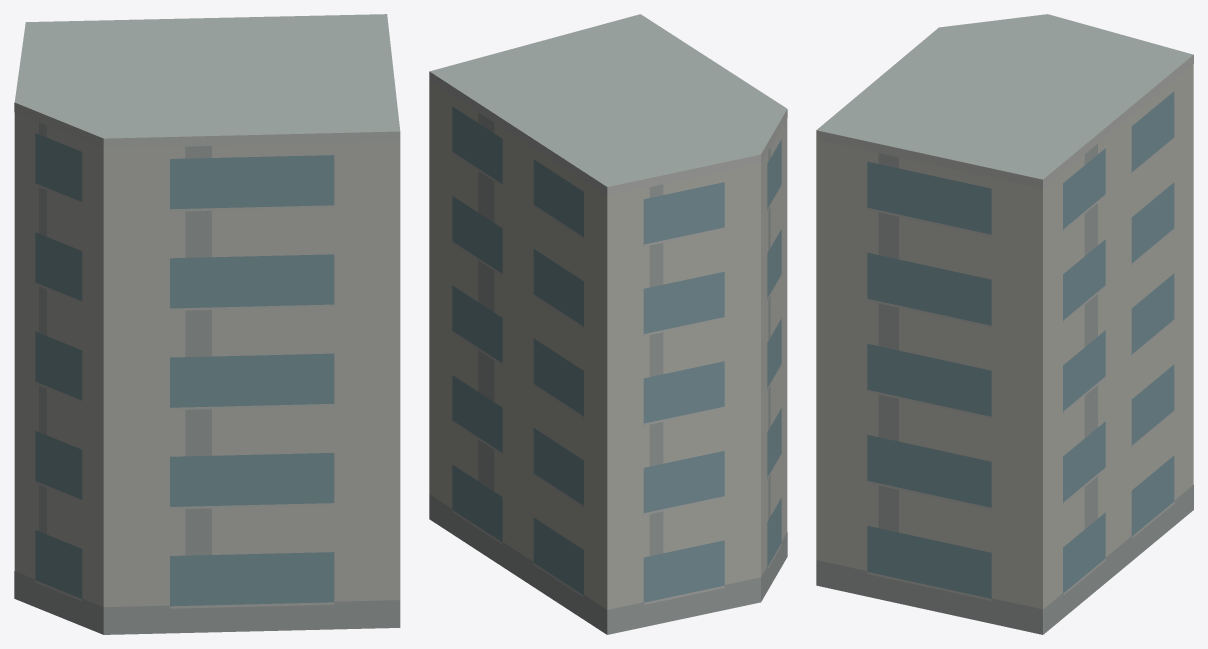
Rendered from survey-upis-32730424.glb.
3 views of the same model, side by side, from view 1: azimuth 30°, elevation 25°; view 2: azimuth 150°, elevation 25°; view 3: azimuth 270°, elevation 25° (orthographic). The views are drawn at different scales.
Visible parts, largest first — view 1: survey-upis-32730424.tmp; view 2: survey-upis-32730424.tmp; view 3: survey-upis-32730424.tmp.
Boxes of the visible parts, x1=… form: survey-upis-32730424.tmp: x1=14, y1=14, x2=400, y2=634; survey-upis-32730424.tmp: x1=429, y1=14, x2=787, y2=634; survey-upis-32730424.tmp: x1=816, y1=14, x2=1193, y2=634.
Size of the model in its own units: 9.45 by 12.1 by 9.1.
